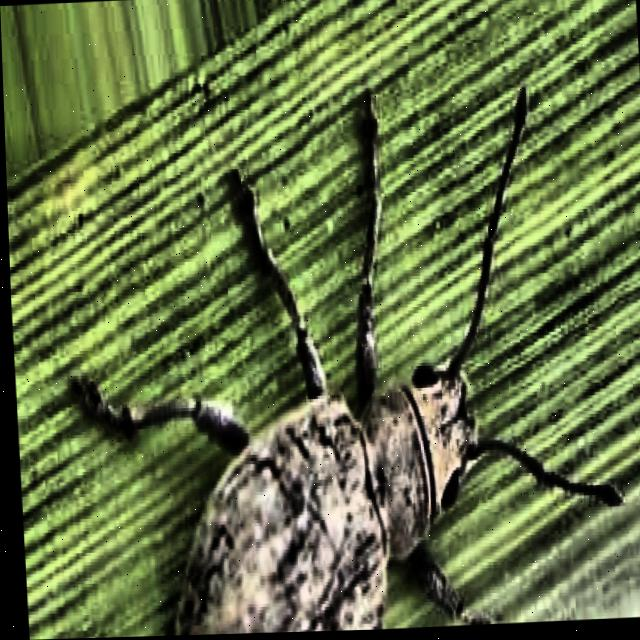Stink bug: (15, 69, 640, 640)
